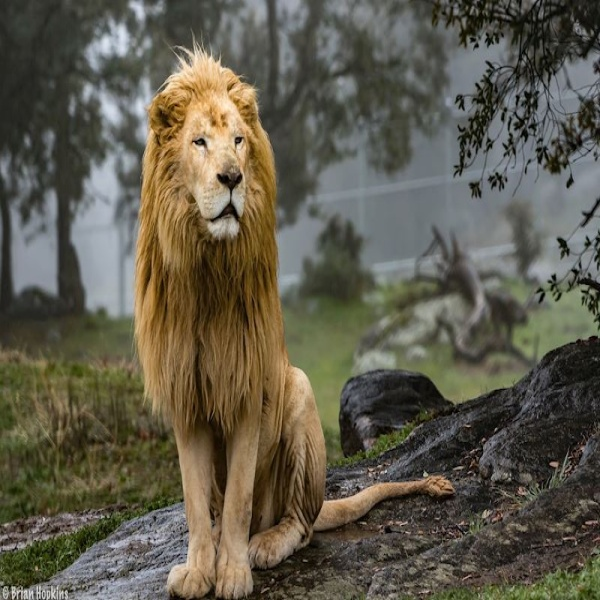Lion: (132, 44, 460, 600)
